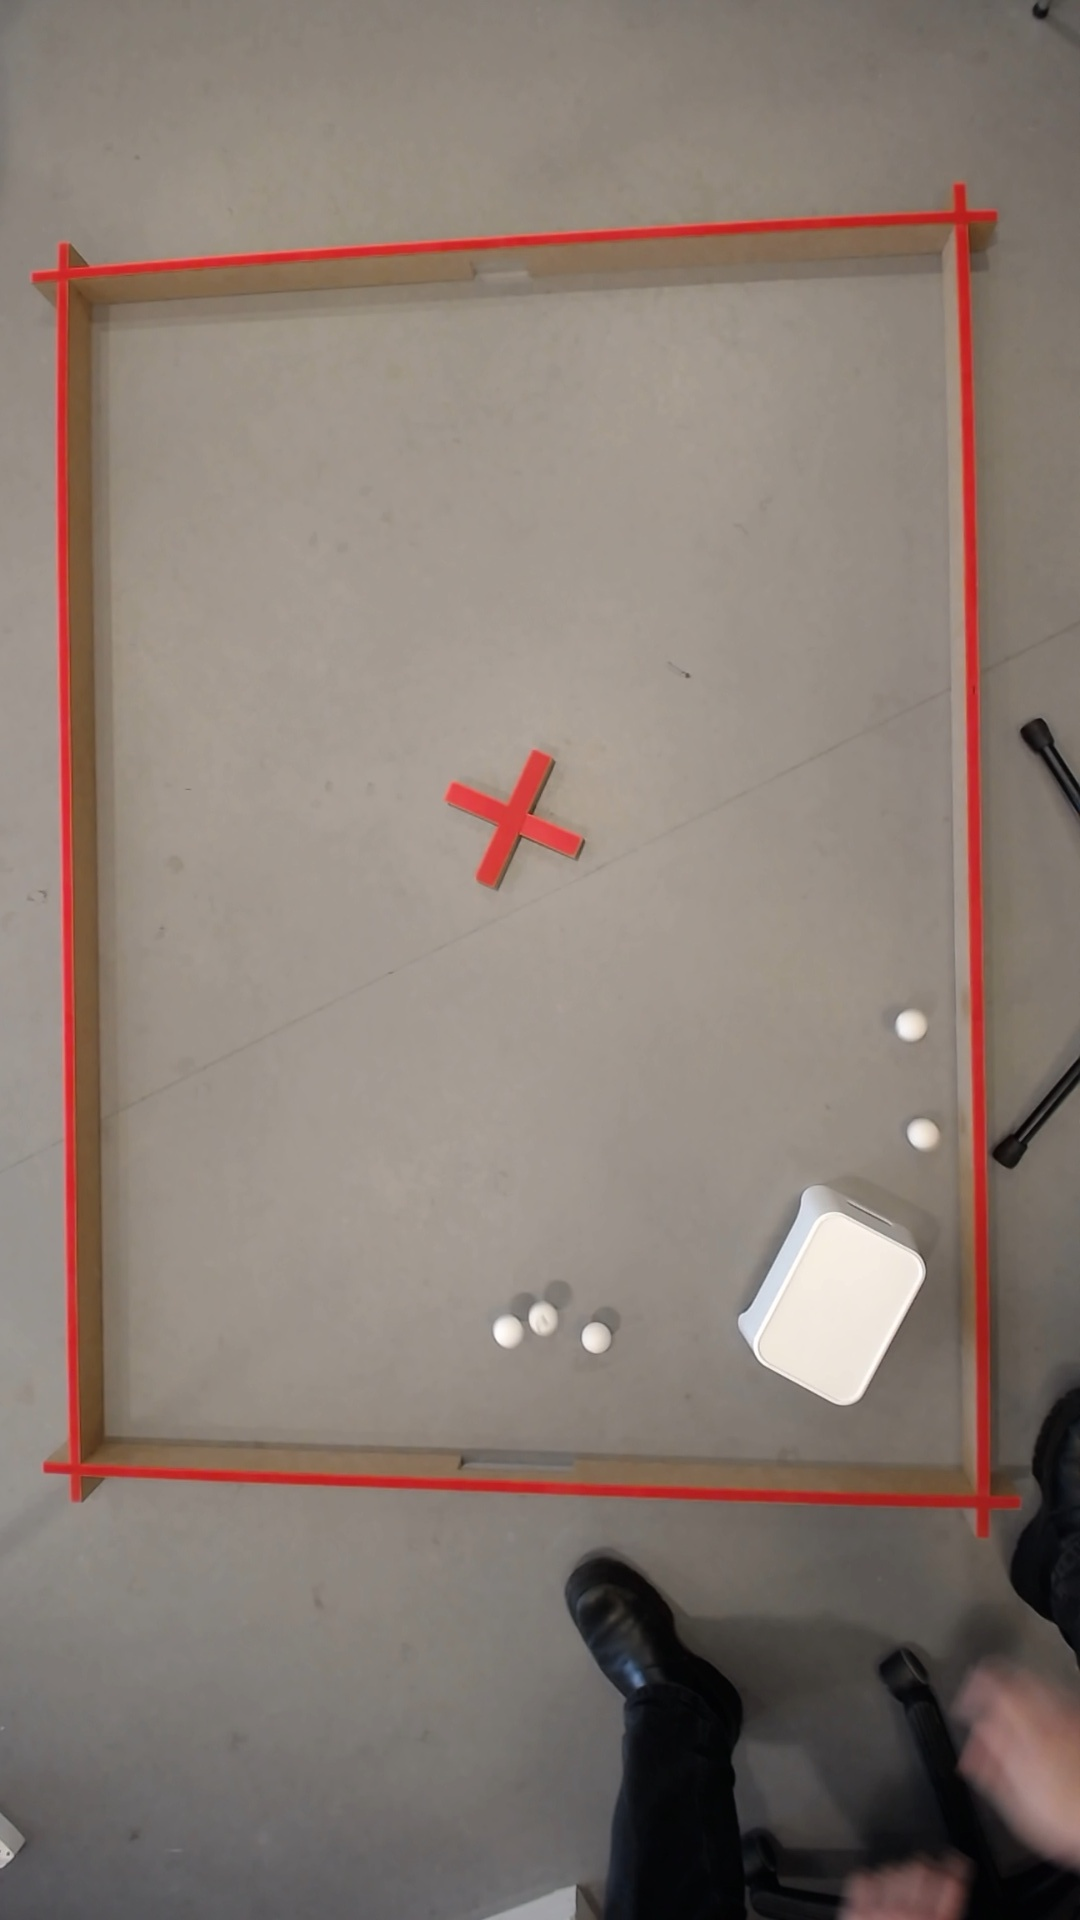balls: (721, 1187, 935, 1412), (1018, 1774, 1068, 1829), (487, 1311, 525, 1350), (897, 1011, 924, 1039), (907, 1121, 935, 1147), (529, 1304, 554, 1332)
car: (575, 1319, 612, 1356)
